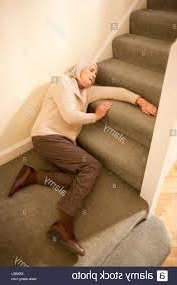fall: (8, 55, 159, 257)
